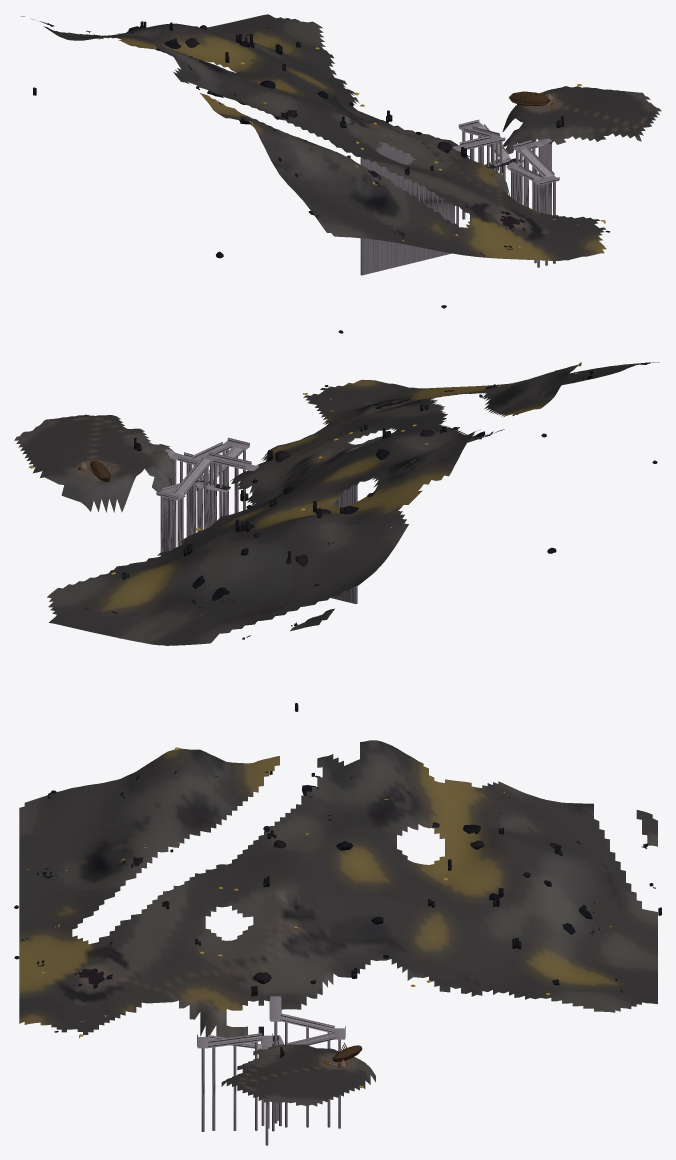
File: ash_isl_ember_wreck.glb
3 renders of one model, top to bottom at view 1: azimuth 30°, elevation 25°; view 2: azimuth 150°, elevation 25°; view 3: azimuth 270°, elevation 25°, orthographic. The views are drawn at different scales.
Visible parts, largest first — view 1: ash_isl_ember_wreck; view 2: ash_isl_ember_wreck; view 3: ash_isl_ember_wreck.
Part boxes in pixels (x1,y1,x2,y2): ash_isl_ember_wreck: [21, 14, 661, 333]; ash_isl_ember_wreck: [14, 362, 659, 711]; ash_isl_ember_wreck: [14, 740, 661, 1145].
Size of the model in its own units: 203 by 97.87 by 243.
